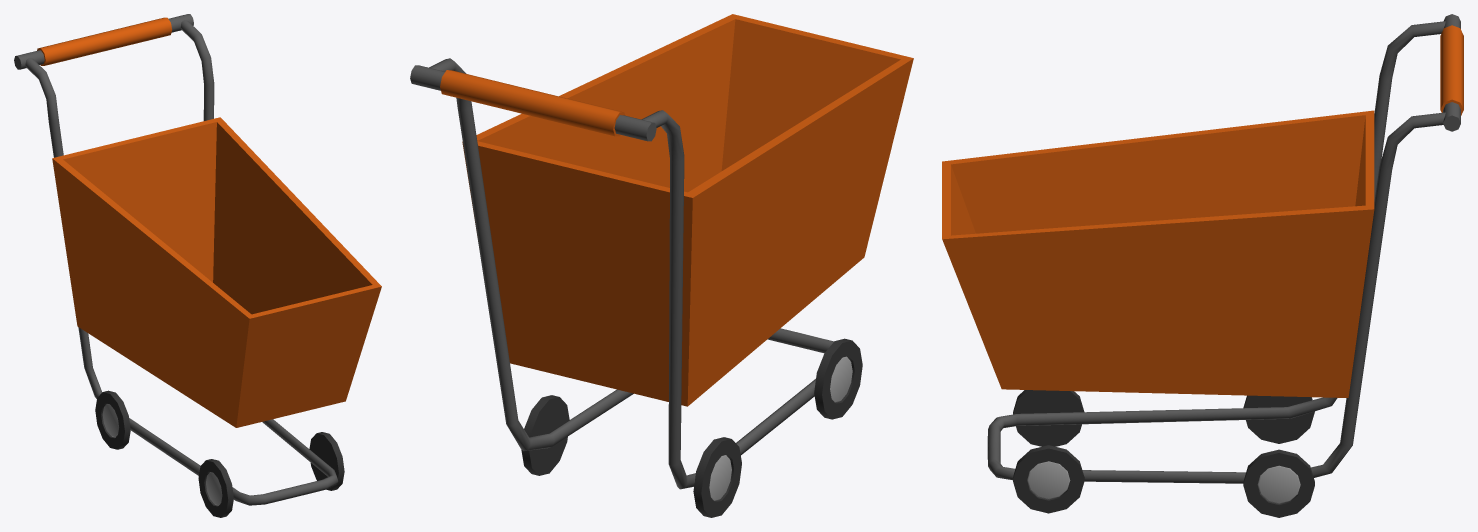
3 renders of one model, left to right at view 1: azimuth 30°, elevation 25°; view 2: azimuth 150°, elevation 25°; view 3: azimuth 270°, elevation 25°, orthographic. The views are drawn at different scales.
Visible parts, largest first — view 1: Carro; view 2: Carro; view 3: Carro.
Boxes of the visible parts, x1,y1,x2,y2 form: Carro: [14, 14, 381, 517]; Carro: [410, 14, 913, 517]; Carro: [942, 14, 1463, 517].
Bounding box in the file's own units: 0.0115 × 0.0221 × 0.025.
